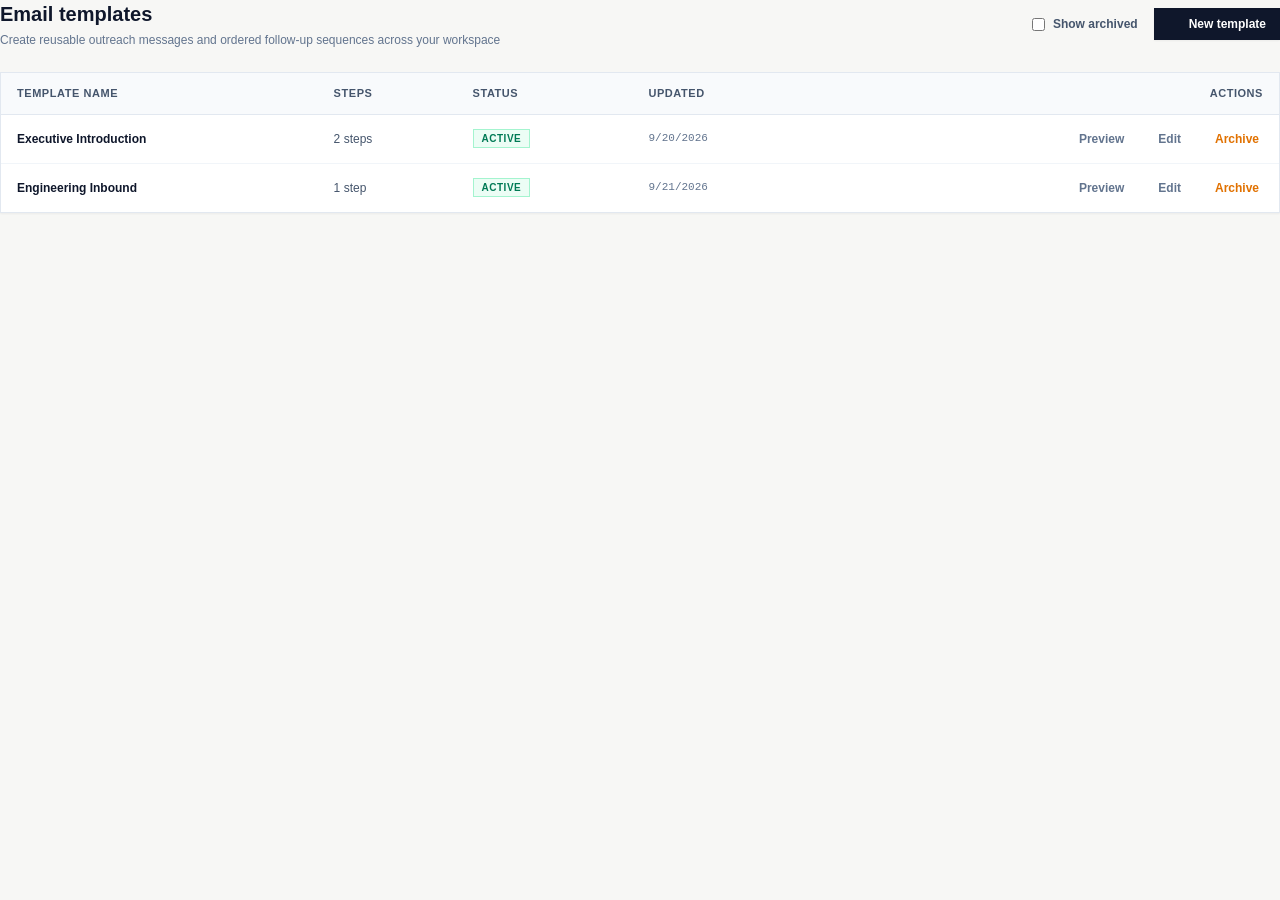
Test: TemplateManager › displays toast or alert on 409 Conflict when removing or mutating steps
The width and height of the screenshot is (1280, 900).
Expected: the text "Executive Introduction" is shown, [1,114,318,163]
Click the button "Edit" in the row of "Executive Introduction" at (1161, 138), box [1136,126,1185,150]
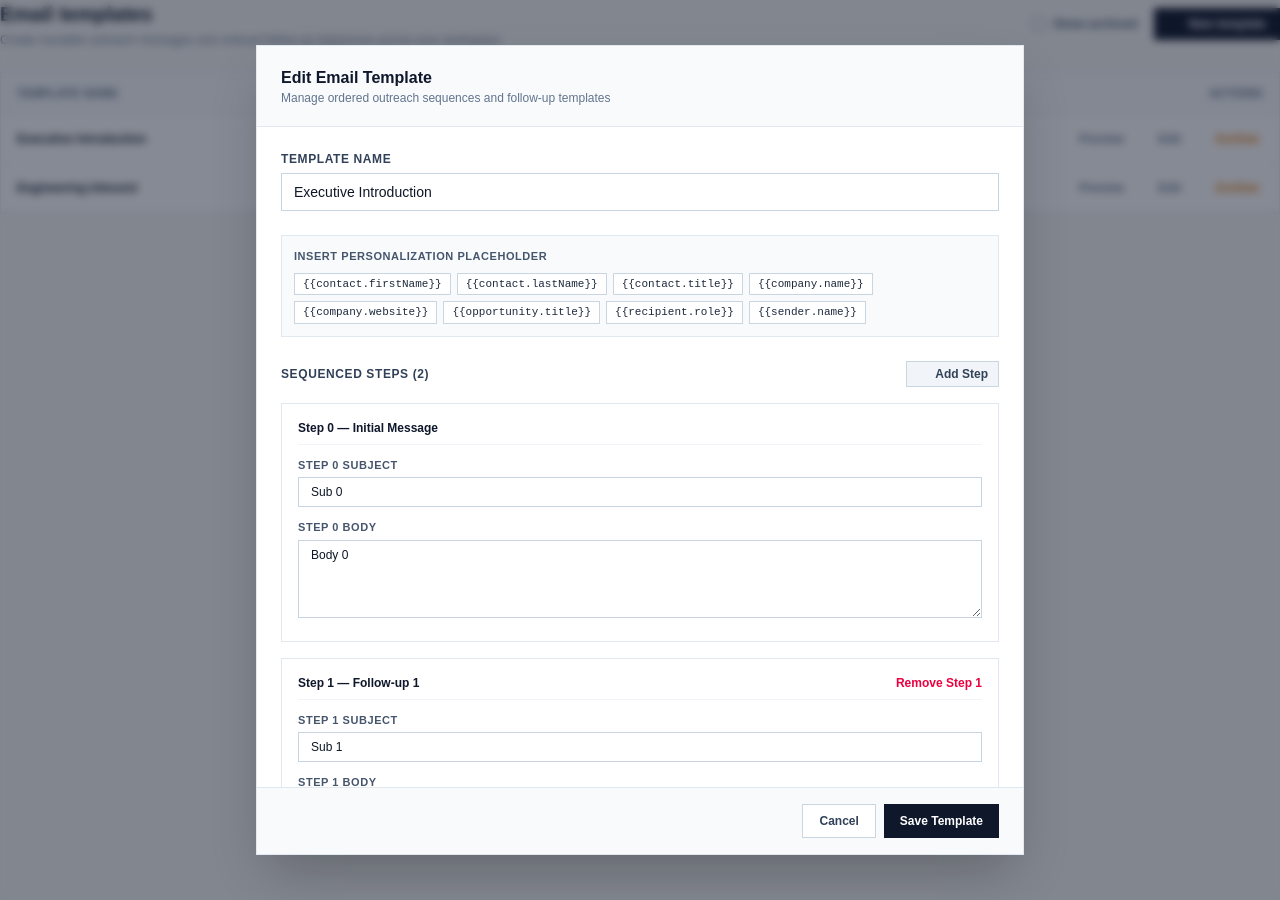
Now the dialog "Edit Email Template" is shown
# Remove step 1
Click the button "Remove Step 1" at (930, 682), box [879,674,982,690]
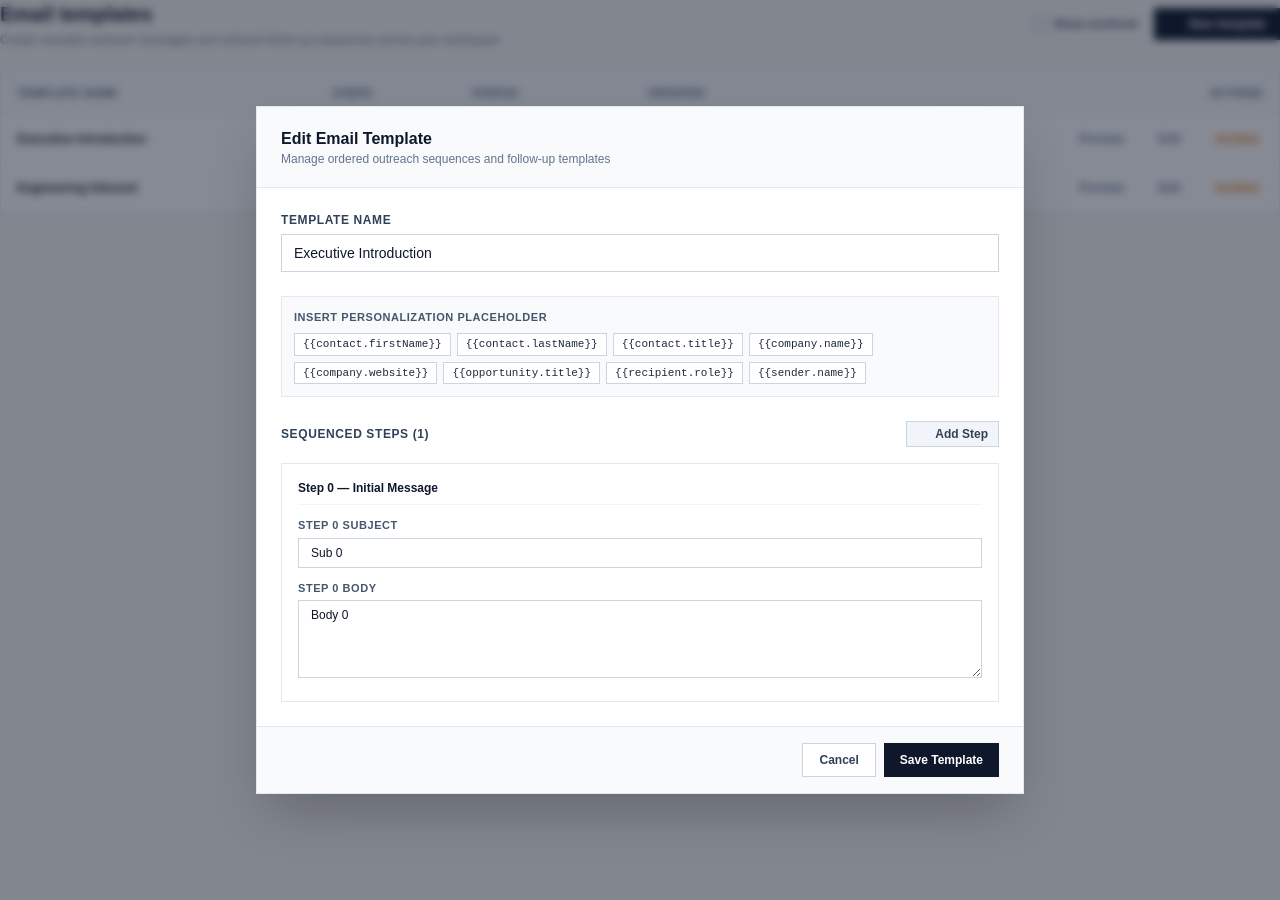
Click the button "Save Template" at (941, 760), box [884,743,999,777]
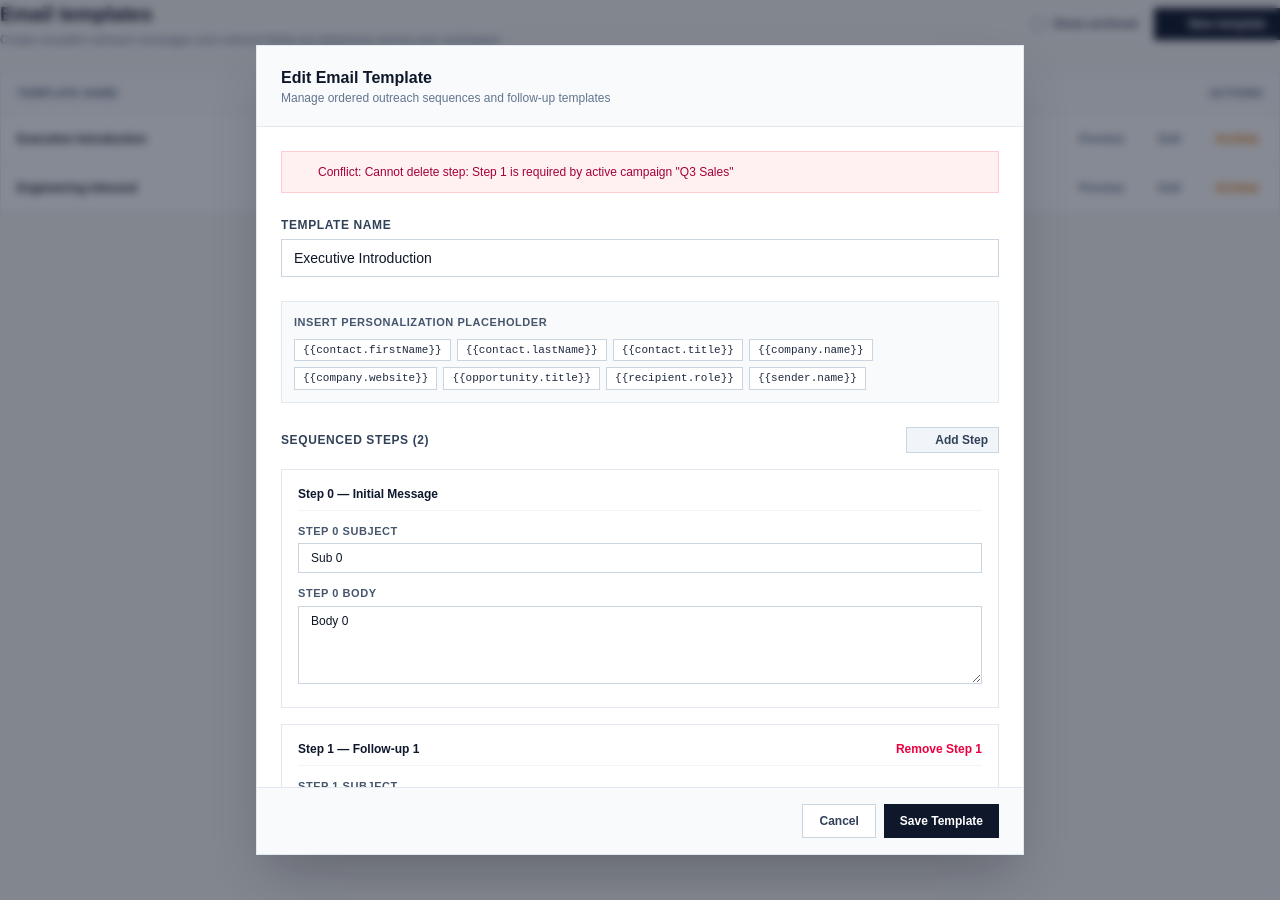
Now the text "Conflict: Cannot delete step: Step 1 is required by active campaign \"Q3 Sales\"" is shown, box [318,164,733,180]
